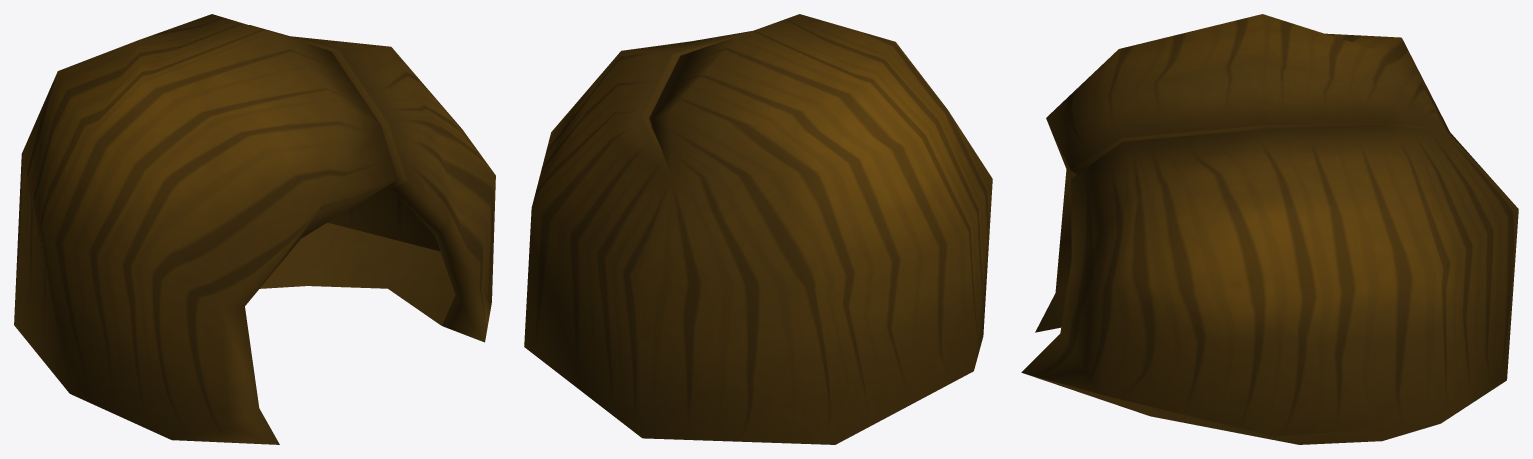
File: Hair_Dannycut.FBX
3 renders of one model, left to right at view 1: azimuth 30°, elevation 25°; view 2: azimuth 150°, elevation 25°; view 3: azimuth 270°, elevation 25°, orthographic. The views are drawn at different scales.
Visible parts, largest first — view 1: Hair_Dannycut_DIF; view 2: Hair_Dannycut_DIF; view 3: Hair_Dannycut_DIF.
Boxes of the visible parts, left/top/right/bottom form: Hair_Dannycut_DIF: left=14, top=14, right=495, bottom=444; Hair_Dannycut_DIF: left=524, top=14, right=992, bottom=444; Hair_Dannycut_DIF: left=1021, top=14, right=1518, bottom=444.
Size of the model in its own units: 279 by 203 by 274.
1 material, 1 textured.
